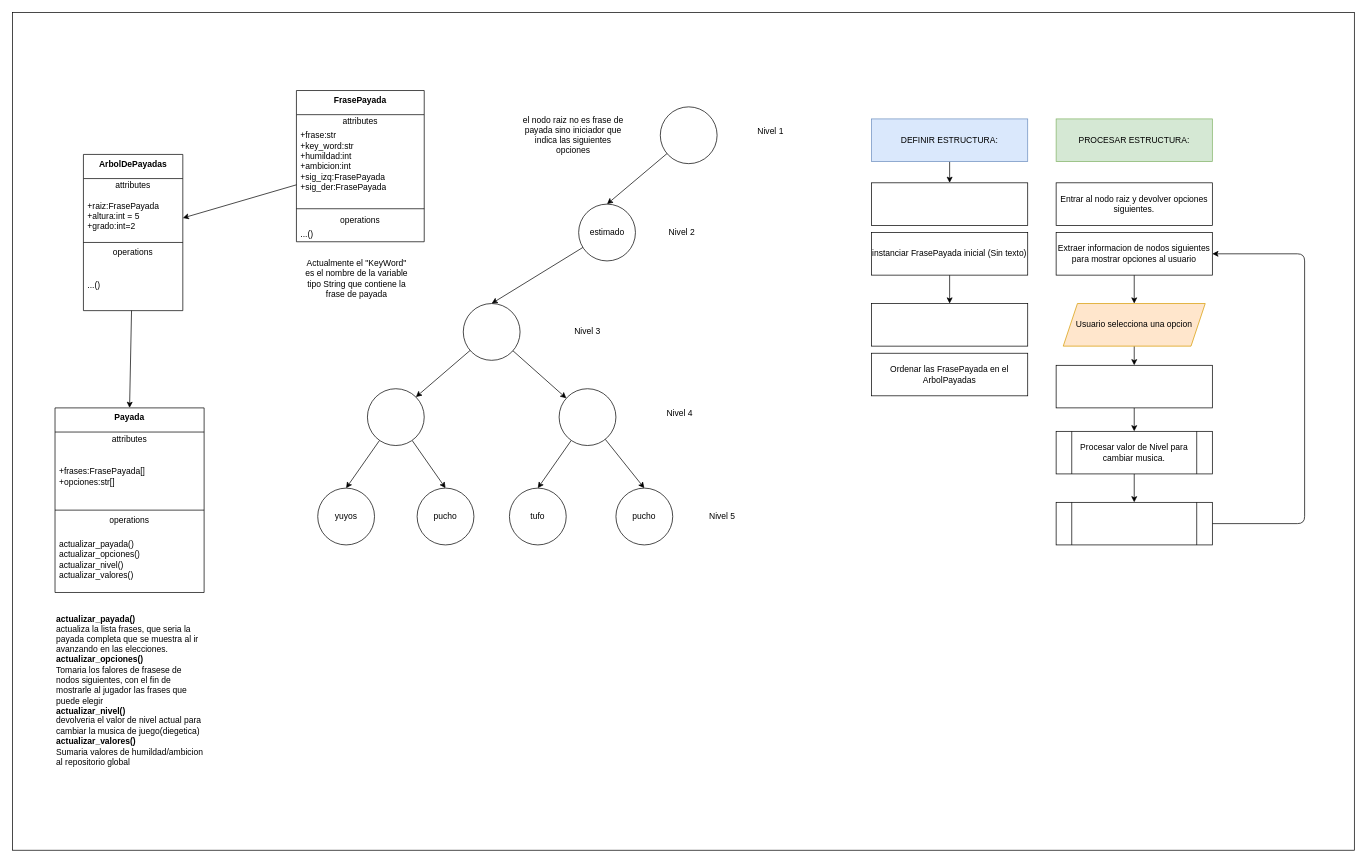
This 1367x863 diagram has some shape labels left out. Here are the shapes that lost their labels. From the top down, the centre of each, then its label:
At pixel 688 135: "Inicio".
At pixel 949 203: "Instanciar las FrasePayada, definir texto y niveles ambicion humildad".
At pixel 491 331: "cansado".
At pixel 949 324: "Instanciar ArbolPayada, inesertar raiz sin texto".
At pixel 1133 386: "Procesar siguiente nodo segun opcion del usuario.".
At pixel 395 417: "tirarse".
At pixel 587 417: "banio".
At pixel 1133 523: "Procesar valores humildad/ambicion segun eleccion.".
